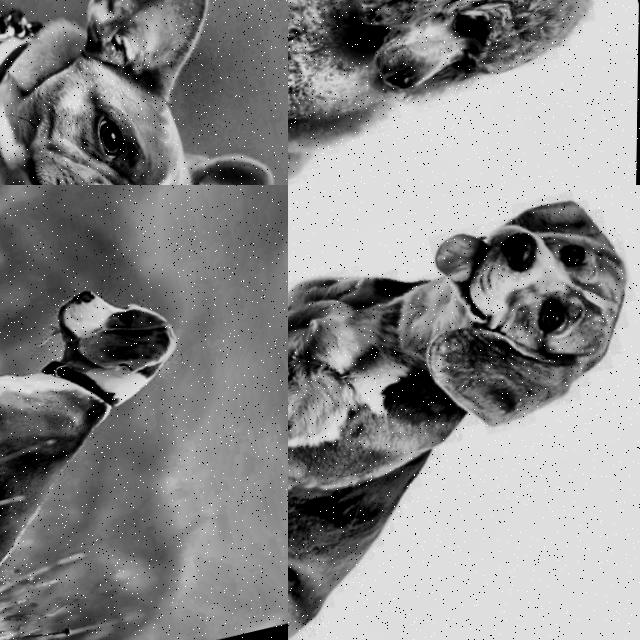beagle: (360, 185, 640, 460), (30, 252, 207, 429)
bulldog: (0, 0, 288, 185)
poodle: (305, 0, 636, 139)
